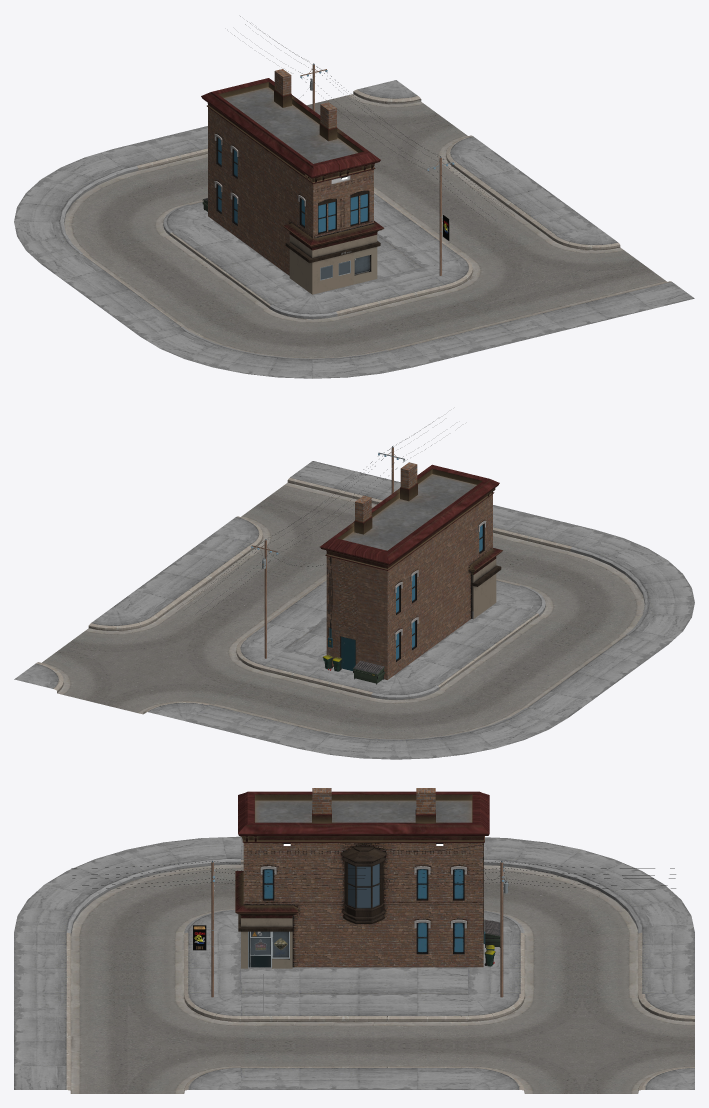
The picture shows the model from 3 angles, top to bottom: view 1: azimuth 30°, elevation 25°; view 2: azimuth 150°, elevation 25°; view 3: azimuth 270°, elevation 25°; orthographic projection. The views are drawn at different scales.
Visible parts, largest first — view 1: Plane.010, Plane.004, Plane.000, Main, Plane.011, Plane.001, Plane.009, Roof (×2), Plane.007, Plane.012, Bulding, Circle.000; view 2: Plane.010, Plane.007, Main, Plane.000, Plane.001, Plane.011, Plane.012, Roof, Plane.004, Plane.009, Bulding, Circle.004 (+1 smaller); view 3: Plane.000, Main, Plane.007, Plane.004, Plane.001, Plane.011, Roof (×2), Plane.009, Plane.012, Balcony.002, Bulding, Circle.004 (+1 smaller).
Part boxes in pixels (x1,y1,x2,y2): Plane.010: (41,221,311,336); Plane.004: (423,225,694,340); Plane.000: (374,153,594,278); Main: (208,107,373,275); Plane.011: (14,149,212,263); Plane.001: (140,294,411,378); Plane.009: (313,268,521,367); Roof (×2): (201,69,384,250); Plane.007: (307,80,495,185); Plane.012: (114,126,214,221); Bulding: (285,234,380,294); Circle.000: (427,156,454,275); Plane.010: (395,602,667,717); Plane.007: (14,606,285,721); Main: (326,494,492,679); Plane.000: (114,533,326,657); Plane.001: (496,530,694,644); Plane.011: (297,675,568,759); Plane.012: (187,648,395,748); Roof: (320,462,499,570); Plane.004: (213,461,400,564); Plane.009: (493,505,594,601); Bulding: (471,559,501,619); Circle.004: (191,421,433,658); Plane.000: (241,967,467,1089); Main: (243,843,483,967); Plane.007: (468,994,694,1093); Plane.004: (14,994,240,1093); Plane.001: (14,836,240,936); Plane.011: (484,837,694,936); Roof (×2): (235,788,489,918); Plane.009: (14,932,240,997); Plane.012: (468,932,694,997); Balcony.002: (260,846,466,928); Bulding: (238,914,292,968); Circle.004: (71,861,675,997).
Size of the model in its own units: 4.73 by 1.52 by 5.38.
15 materials, 15 textured.
